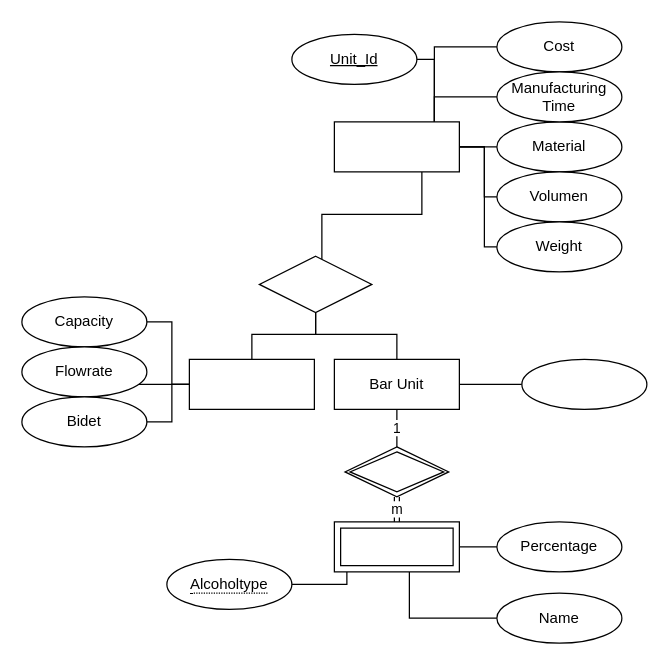
Image size: 669x665. Some labels were removed from this diagram. Here are the shapes that lost their labels. From the top down, the centre of each, then its label:
At [396,146]: "Unit".
At [315,283]: "IS-A".
At [251,383]: "Toilet Unit".
At [584,383]: "Minifridges".
At [396,471]: "has".
At [396,546]: "Beverage".
